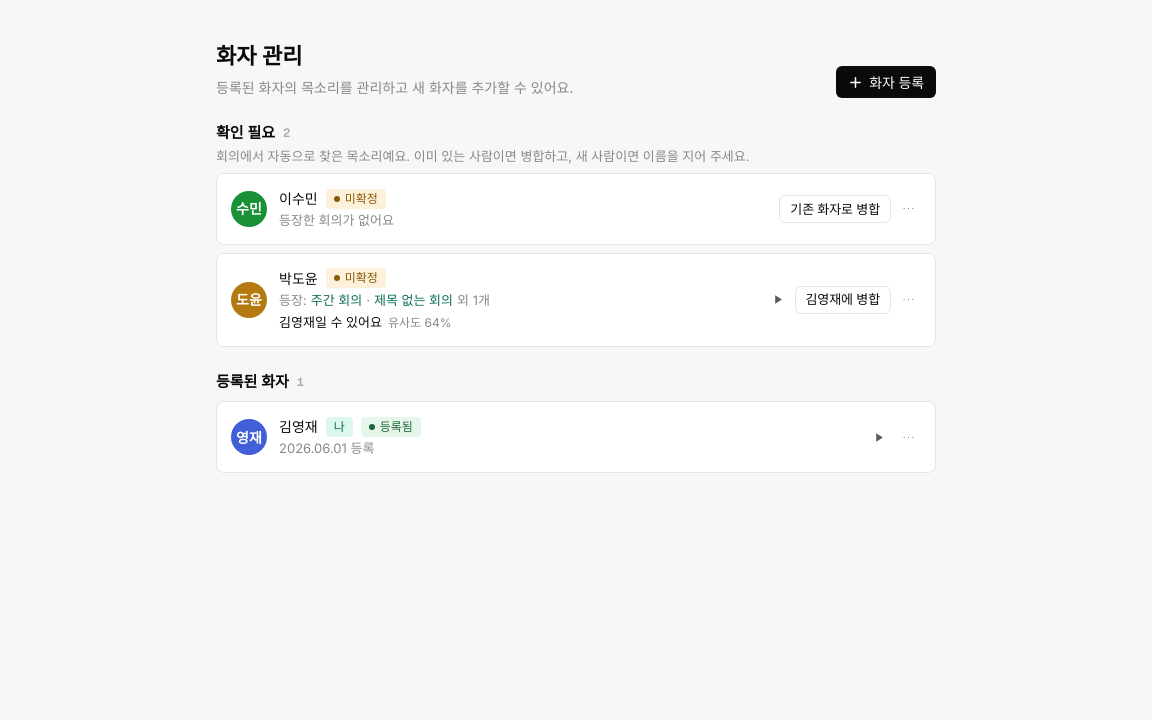
Test: 화자 등록 버튼으로 등록 다이얼로그를 연다
Check: the text "김영재" is shown, box [279,416,318,437]
Step 1. Click the button "화자 등록" → (886, 82), box [836,66,936,98]
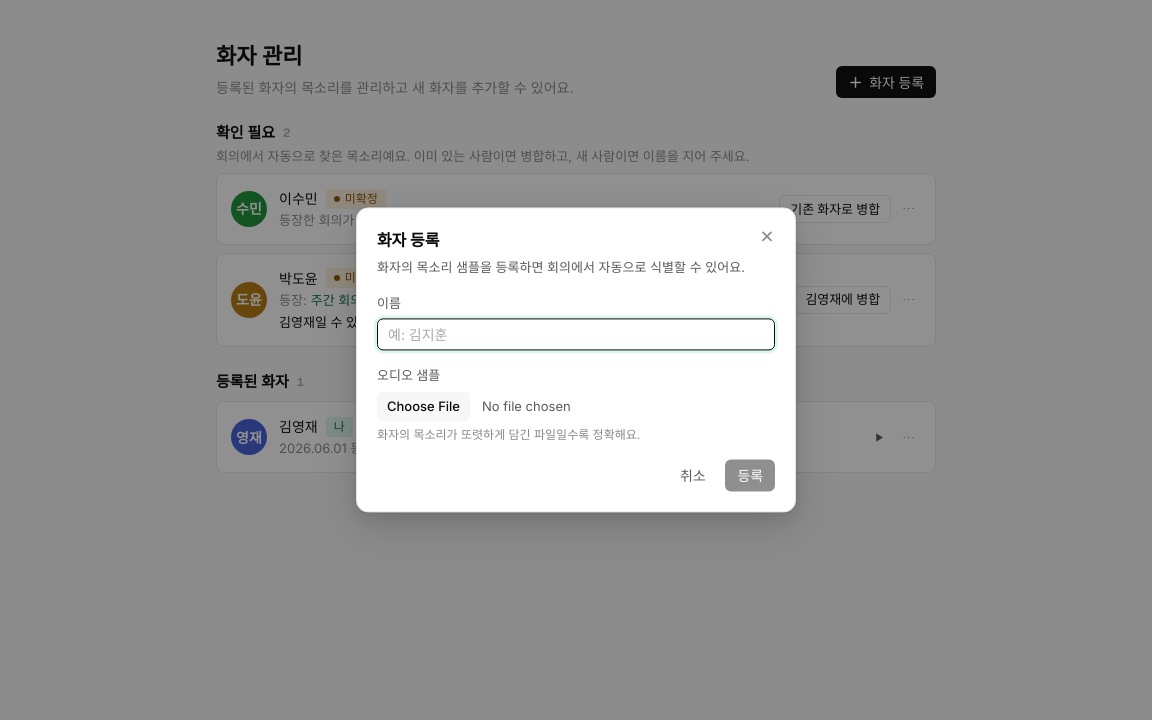
Check: the text "화자의 목소리 샘플을 등록하면 회의에서 자동으로 식별할 수 있어요." is shown, box [377,258,747,278]
Check: the button "등록" is shown, box [726,460,775,492]
